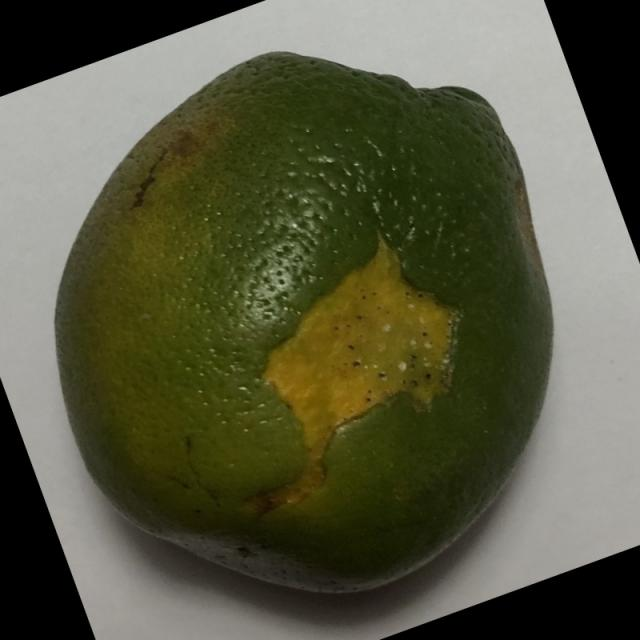canker: (44, 48, 583, 615)
